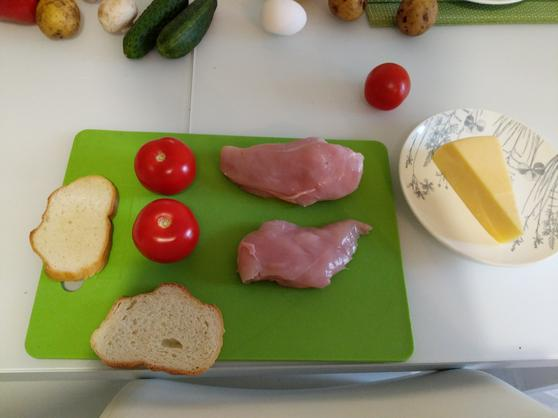champignon: (99, 1, 139, 34)
cheese: (431, 134, 520, 243)
chicken_fillet: (242, 219, 370, 291), (221, 143, 365, 204)
cucumber: (118, 1, 176, 65), (158, 1, 215, 59)
egg: (259, 1, 310, 37)
potato: (37, 1, 78, 38), (398, 1, 440, 36), (331, 1, 367, 23)
tomato: (132, 200, 202, 265), (132, 138, 196, 194), (364, 62, 409, 111)
white_bread: (84, 284, 225, 373), (29, 175, 121, 283)
